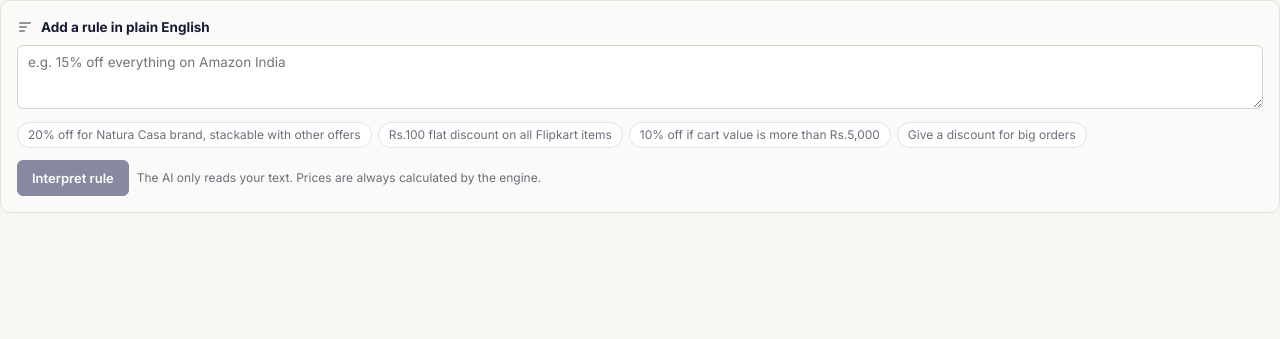
it: rule confirmation › ambiguous input shows the clarification question and no Confirm button
Step 1. Type "Give a discount for big orders" into the text box named "Describe the discount rule" → (640, 77), box [17, 45, 1263, 109]
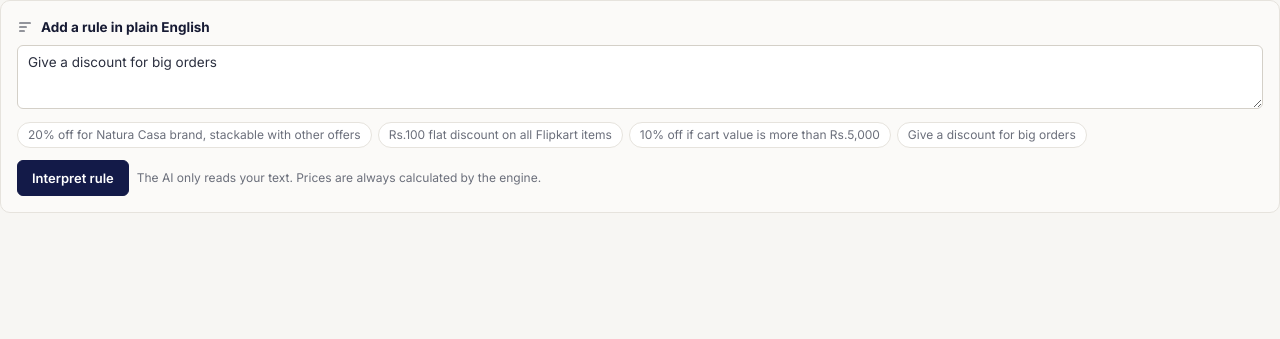
Step 2. Click the button "Interpret rule" → (73, 178), box [17, 160, 129, 196]
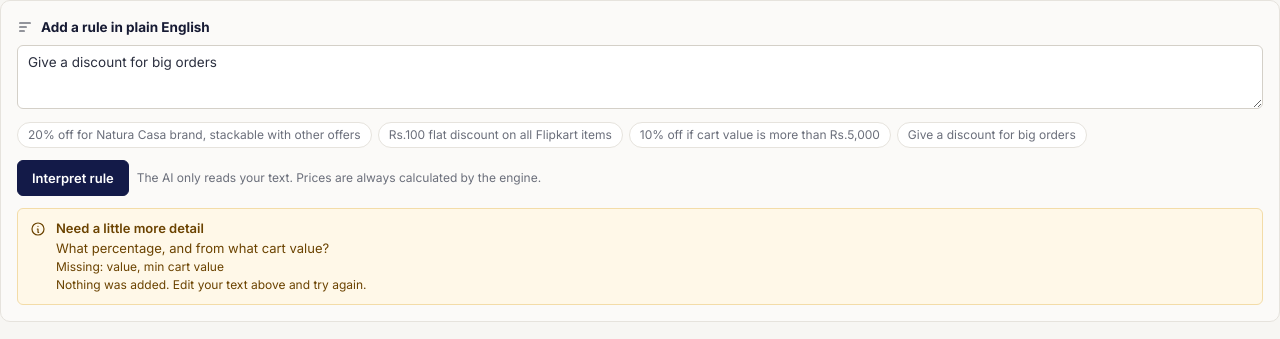
Expected: the text "What percentage, and from what cart value?" is shown, [56, 240, 329, 256]
